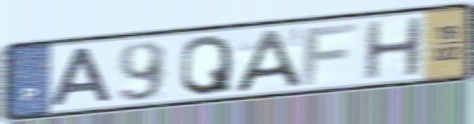9: (114, 39, 173, 103)
A: (232, 27, 305, 94), (47, 45, 116, 109)
F: (300, 21, 361, 88)
H: (361, 14, 424, 82)
Q: (178, 32, 234, 98)
